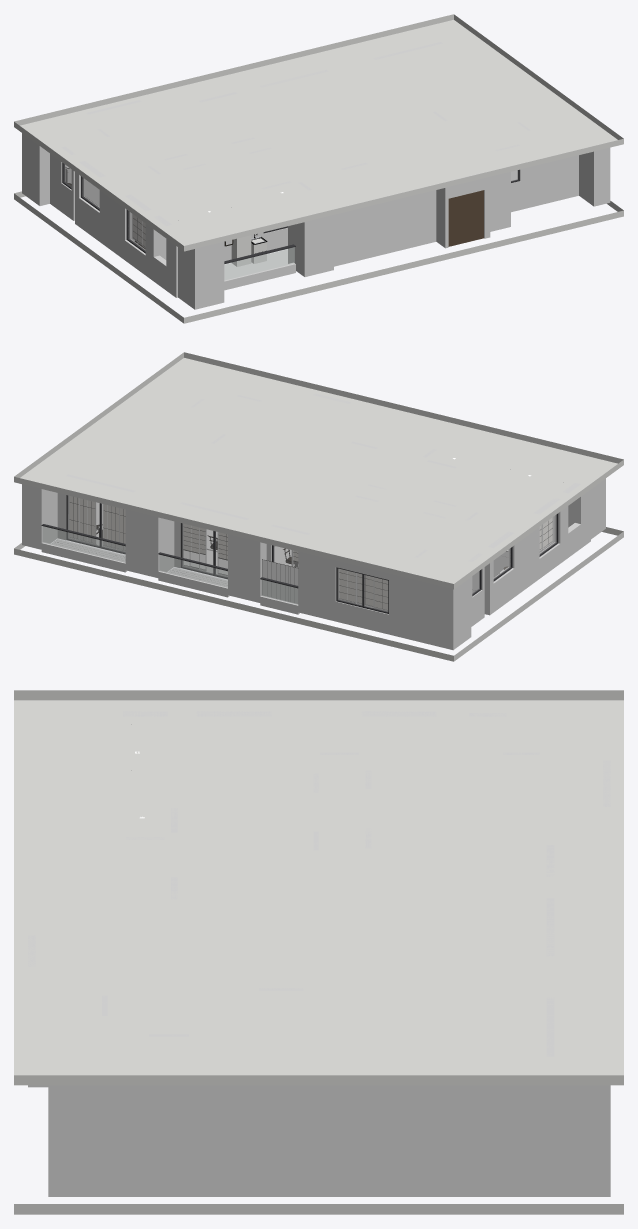
The picture shows the model from 3 angles, top to bottom: view 1: azimuth 30°, elevation 25°; view 2: azimuth 150°, elevation 25°; view 3: azimuth 270°, elevation 25°; orthographic projection. The views are drawn at different scales.
Parts seen in each view (by area): view 1: BAKE_arch_h, BAKE_arch, GLASS, BAKE_furn; view 2: BAKE_arch_h, BAKE_arch, GLASS, BAKE_furn, VC_furn; view 3: BAKE_arch_h, BAKE_arch.
Part boxes in pixels (x1,y1,x2,y2): BAKE_arch_h: [20, 20, 617, 281]; BAKE_arch: [14, 14, 623, 323]; GLASS: [64, 164, 517, 280]; BAKE_furn: [65, 165, 266, 266]; BAKE_arch_h: [20, 358, 617, 614]; BAKE_arch: [14, 352, 623, 661]; GLASS: [43, 495, 556, 611]; BAKE_furn: [51, 496, 553, 611]; VC_furn: [70, 497, 552, 608]; BAKE_arch_h: [14, 700, 623, 1075]; BAKE_arch: [14, 690, 623, 1214].
Size of the model in its own units: 20.72 by 3.5 by 13.88.
